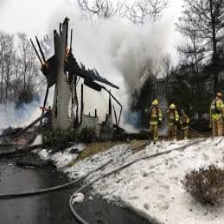smoke: (55, 12, 174, 84)
